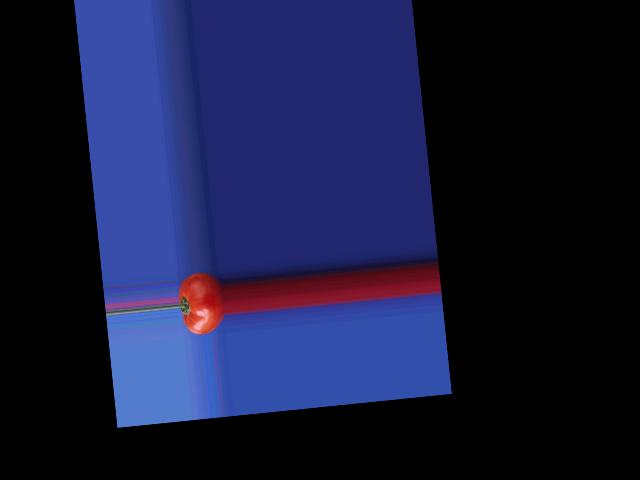tomato: (176, 270, 227, 335)
